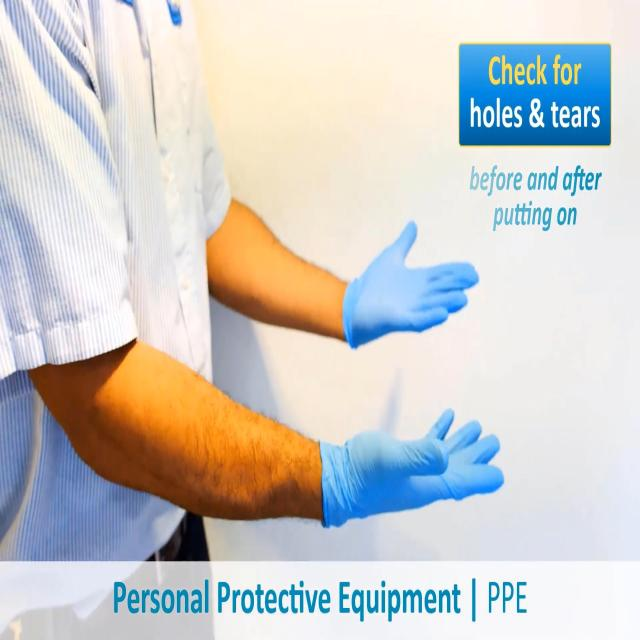Gloves: (331, 220, 481, 374), (317, 415, 507, 527)
